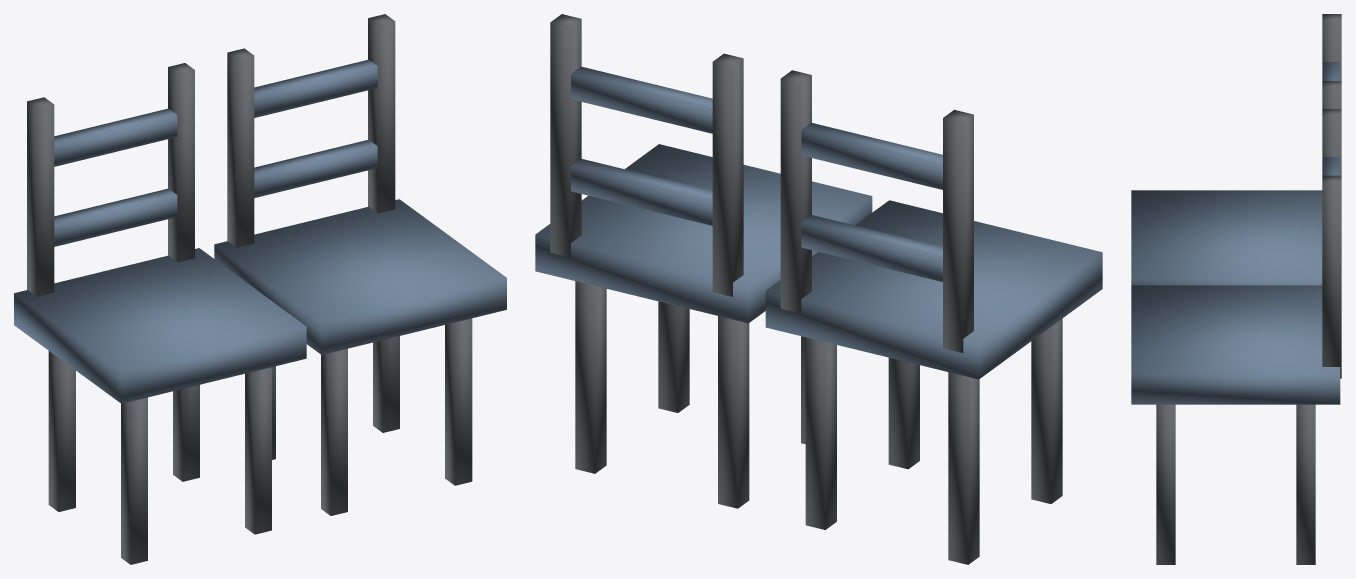
File: armchair__cluster.glb
3 renders of one model, left to right at view 1: azimuth 30°, elevation 25°; view 2: azimuth 150°, elevation 25°; view 3: azimuth 270°, elevation 25°, orthographic. The views are drawn at different scales.
Visible parts, largest first — view 1: world; view 2: world; view 3: world.
Part boxes in pixels (x1=…): world: x1=14, y1=14, x2=506, y2=564; world: x1=535, y1=14, x2=1102, y2=564; world: x1=1131, y1=14, x2=1341, y2=564.
Size of the model in its own units: 1.01 by 0.9892 by 0.4891.
